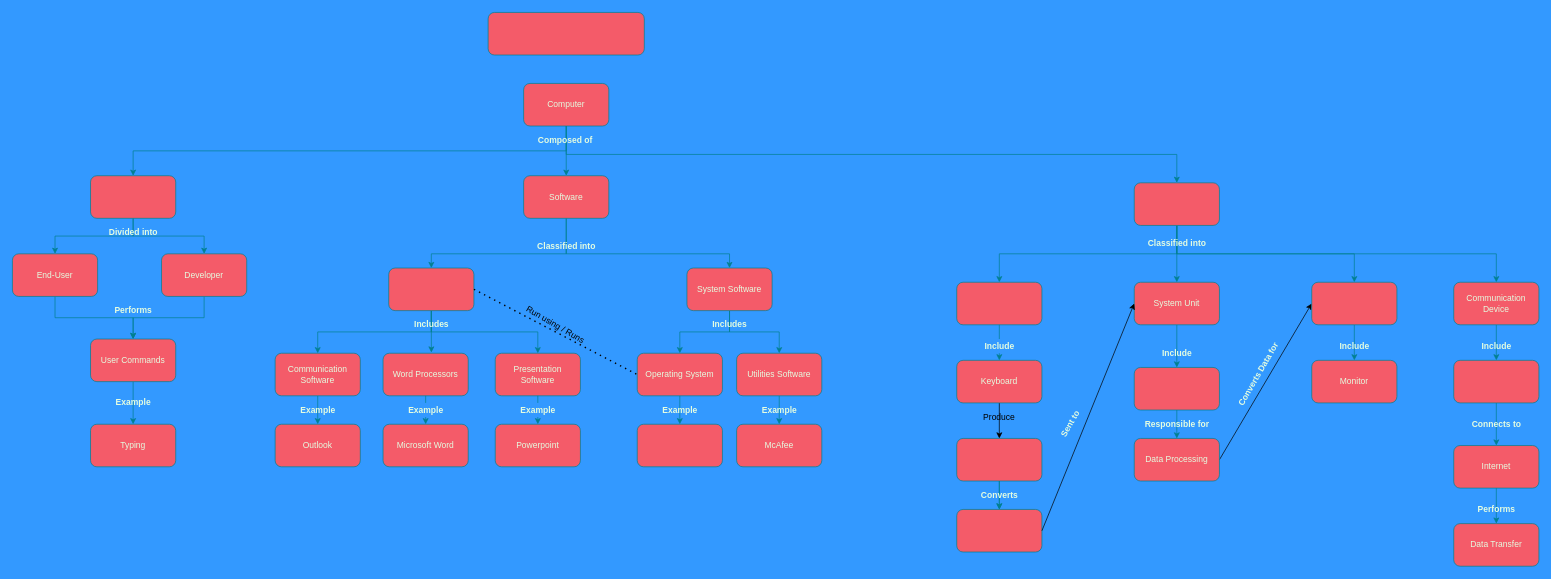
Some shapes in this 1551 by 579 pixel diagram are drawn without their labels. The centre of each missing label's shape, as x and y in pixels:
Application Software: the point at 431,289
CPU: the point at 1176,388
Data Input: the point at 999,303
Data Output: the point at 1354,303
Hardware: the point at 1176,203
Machine Language: the point at 999,530
Peopleware: the point at 133,196
Raw Data: the point at 999,459
Router: the point at 1496,381
What is a computer?: the point at 565,33
Windows 10: the point at 679,445
